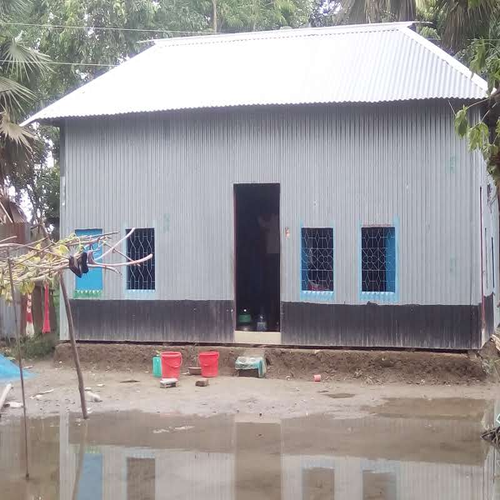Tin-shade House: (27, 11, 492, 358)
